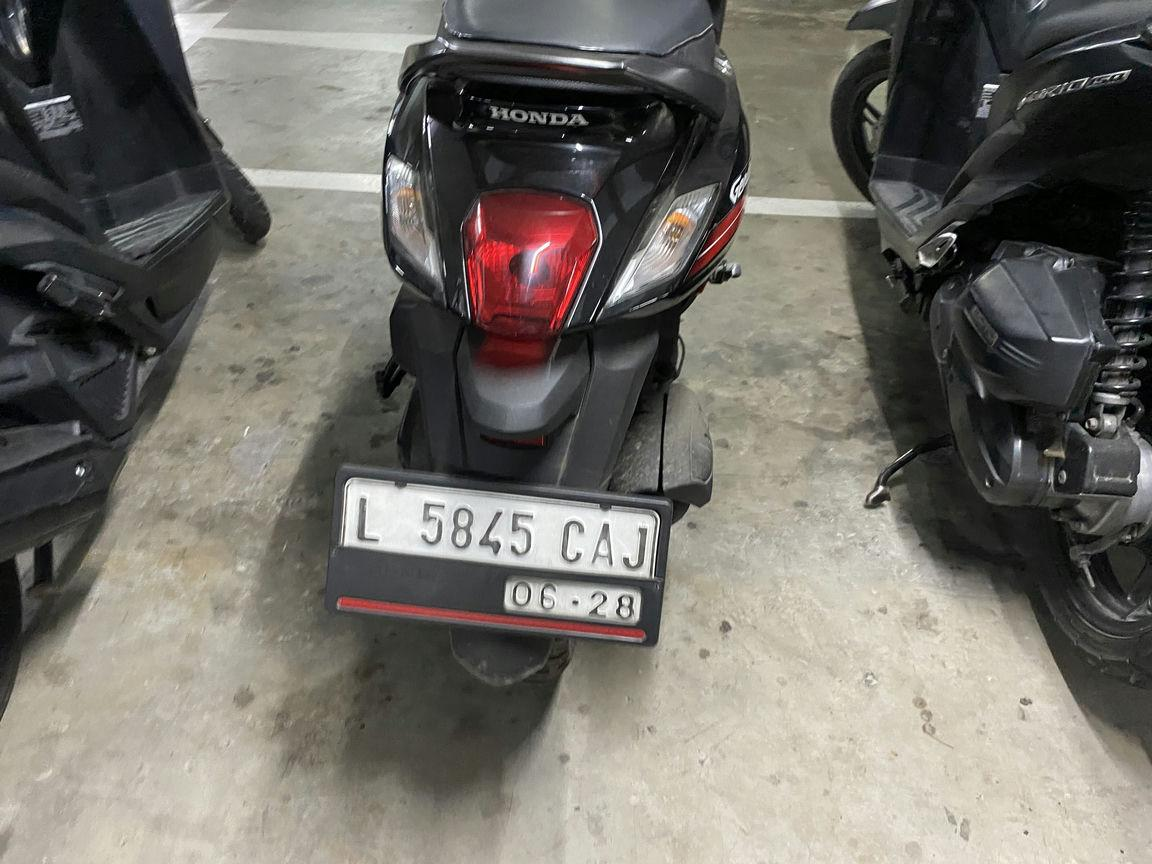plat: (326, 466, 673, 646)
